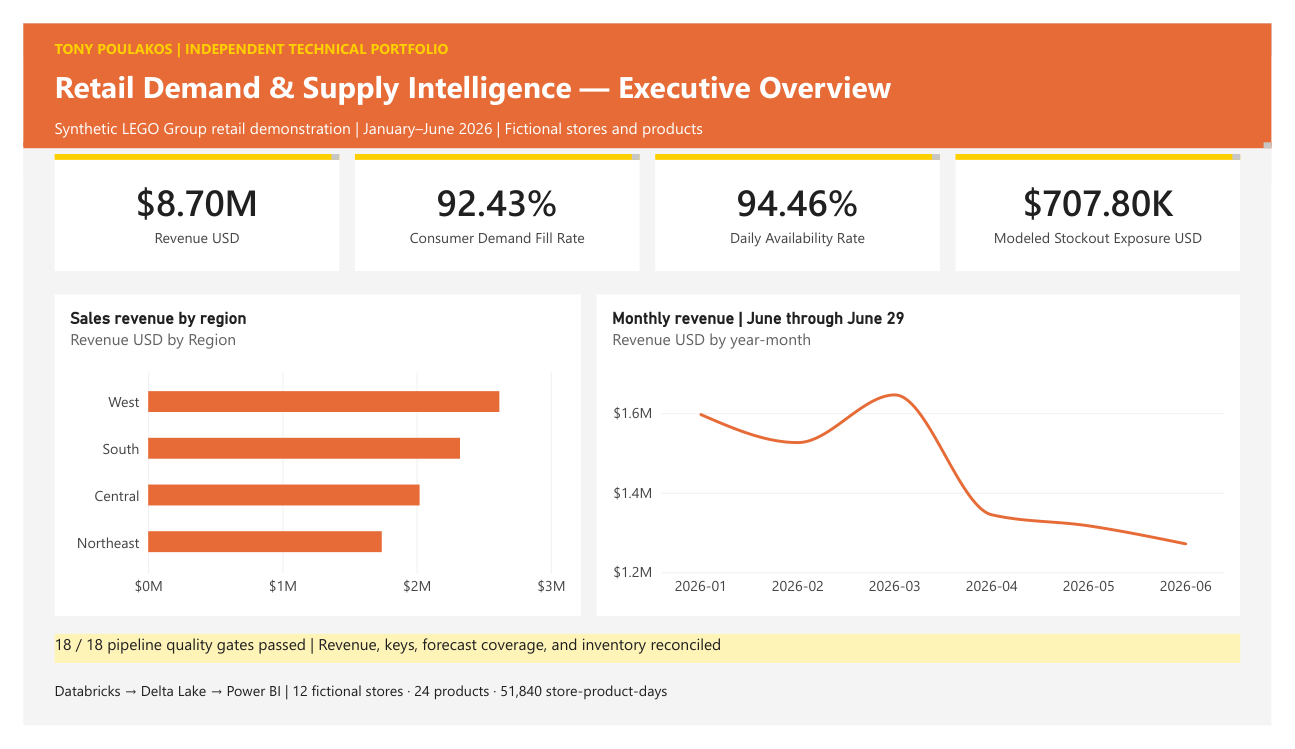

The page's visual inventory and layout, read from the dashboard file:
{"tool":"powerbi","page":{"name":"Executive Overview","canvas":[1280,720],"ordinal":2},"visuals":[{"type":"textbox","box":[0,0,1280,126],"z":0},{"type":"textbox","box":[32.2,15.3,1215.7,30.6],"z":1000},{"type":"textbox","box":[0,122,1280,6],"z":2000},{"type":"textbox","box":[32.2,44.4,1215.7,61.2],"z":3000},{"type":"textbox","box":[32.2,96.5,1215.7,30.6],"z":4000},{"type":"textbox","box":[32,674,1216,25],"z":5000},{"type":"card","fields":{"Values":["gold_fact_daily.Revenue USD"]},"box":[32,134,292,120],"z":6000},{"type":"card","fields":{"Values":["gold_fact_daily.Consumer Demand Fill Rate"]},"box":[340,134,292,120],"z":7000},{"type":"card","fields":{"Values":["gold_fact_daily.Daily Availability Rate"]},"box":[648,134,292,120],"z":8000},{"type":"card","fields":{"Values":["gold_fact_daily.Modeled Stockout Exposure USD"]},"box":[956,134,292,120],"z":9000},{"type":"clusteredBarChart","title":"Sales revenue by region","fields":{"Category":["gold_dim_store.region"],"Y":["gold_fact_daily.Revenue USD"]},"box":[32,278,540,330],"z":10000},{"type":"lineChart","title":"Monthly revenue | June through June 29","fields":{"Category":["gold_dim_date.year_month"],"Y":["gold_fact_daily.Revenue USD"]},"box":[588,278,660,330],"z":11000},{"type":"textbox","box":[32,626,1216,30],"z":12000},{"type":"textbox","box":[32,134,292,6],"z":13000},{"type":"textbox","box":[340,134,292,6],"z":14000},{"type":"textbox","box":[648,134,292,6],"z":15000},{"type":"textbox","box":[956,134,292,6],"z":16000}]}

Visuals, with their boxes in screenshot pixels (x1, y1, x2, y2), scaled from the page's 1280x720 canvas onto the 1295x749 screenshot:
textbox: 0,0,1294,131
textbox: 33,16,1263,48
textbox: 0,127,1294,133
textbox: 33,46,1263,110
textbox: 33,100,1263,132
textbox: 32,701,1263,727
card - gold_fact_daily.Revenue USD: 32,139,328,264
card - gold_fact_daily.Consumer Demand Fill Rate: 344,139,639,264
card - gold_fact_daily.Daily Availability Rate: 656,139,951,264
card - gold_fact_daily.Modeled Stockout Exposure USD: 967,139,1263,264
"Sales revenue by region" clusteredBarChart: 32,289,579,632
"Monthly revenue | June through June 29" lineChart: 595,289,1263,632
textbox: 32,651,1263,682
textbox: 32,139,328,146
textbox: 344,139,639,146
textbox: 656,139,951,146
textbox: 967,139,1263,146
